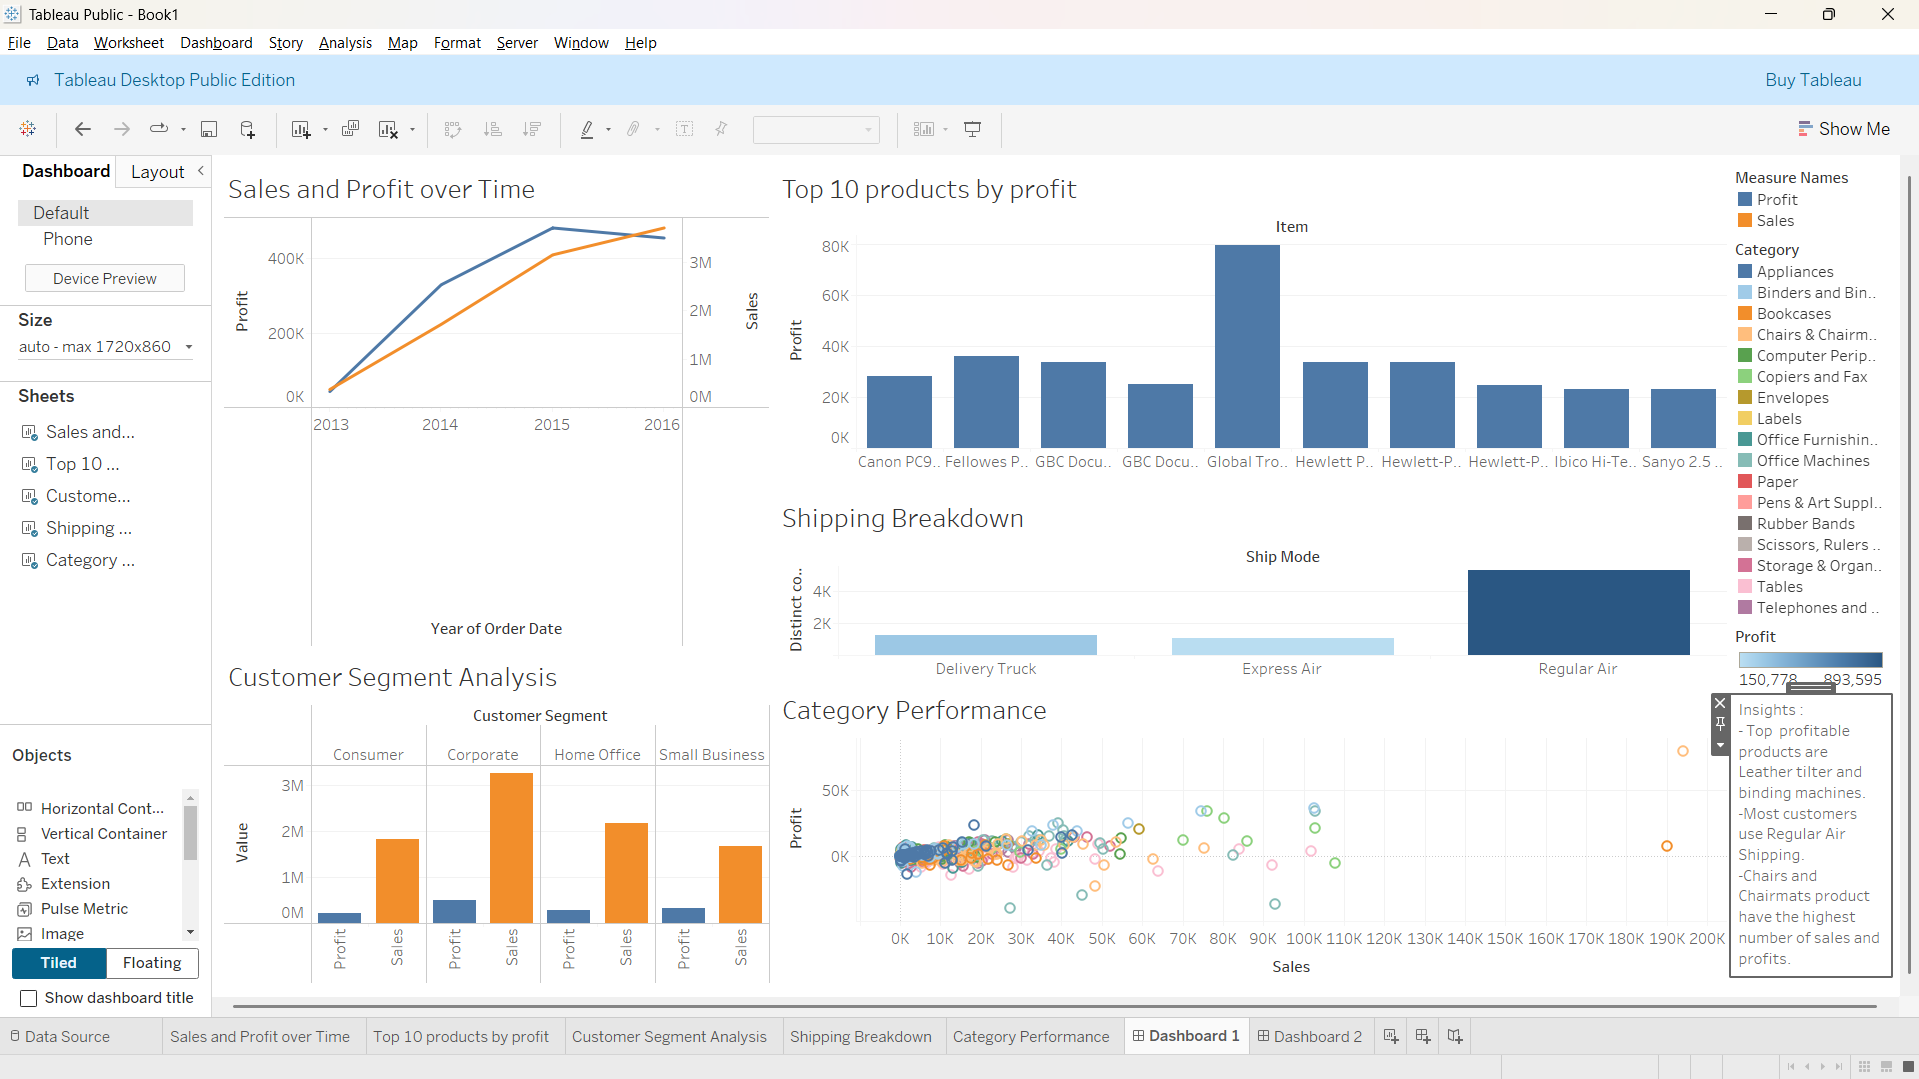

The dashboard page shown, as its layout file describes it:
{"tool":"tableau","page":{"name":"Dashboard 1","canvas":[1000,1000],"units":"permille","ordinal":0},"visuals":[{"type":"worksheet","title":"Sales and Profit over Time","mark":"Automatic","rows":["Profit","Sales"],"cols":["Order Date"],"box":[4.7,9.5,328.4,580.2]},{"type":"worksheet","title":"Top 10 products by profit","mark":"Bar","rows":["Profit"],"cols":["Item"],"box":[333.1,9.5,567.3,391.2]},{"type":"legend","title":"Customer Segment Analysis","param":"[federated.17m5iix0e12ckl149irud0d4g7jj].[:Measure Names]","box":[900.4,9.5,94.8,85.6]},{"type":"legend","title":"Category Performance","param":"[federated.17m5iix0e12ckl149irud0d4g7jj].[none:Category:nk]","box":[900.4,95.1,94.8,460.2]},{"type":"worksheet","title":"Shipping Breakdown","mark":"Bar","rows":["Order ID"],"cols":["Ship Mode"],"box":[333.1,400.7,567.3,228.3]},{"type":"legend","title":"Shipping Breakdown","param":"[federated.17m5iix0e12ckl149irud0d4g7jj].[sum:Profit:qk]","box":[900.4,555.3,94.8,86.8]},{"type":"worksheet","title":"Customer Segment Analysis","mark":"Automatic","cols":["Customer Segment"],"box":[4.7,589.8,328.4,400.7]},{"type":"worksheet","title":"Category Performance","mark":"Automatic","rows":["Profit"],"cols":["Sales"],"box":[333.1,629,567.3,361.5]},{"type":"text","box":[900.4,642.1,94.8,334.1]}]}

Visuals, with their boxes on the dashboard's canvas, which has no fixed pixel size, in thousandths of its width and height (x1, y1, x2, y2). These are canvas units, not pixel positions in the 1919x1079 screenshot, which may show the page scaled, cropped or inside an application window:
"Sales and Profit over Time" worksheet: x1=5, y1=10, x2=333, y2=590
"Top 10 products by profit" worksheet (Bar marks): x1=333, y1=10, x2=900, y2=401
"Customer Segment Analysis" legend: x1=900, y1=10, x2=995, y2=95
"Category Performance" legend: x1=900, y1=95, x2=995, y2=555
"Shipping Breakdown" worksheet (Bar marks): x1=333, y1=401, x2=900, y2=629
"Shipping Breakdown" legend: x1=900, y1=555, x2=995, y2=642
"Customer Segment Analysis" worksheet: x1=5, y1=590, x2=333, y2=990
"Category Performance" worksheet: x1=333, y1=629, x2=900, y2=990
text: x1=900, y1=642, x2=995, y2=976
